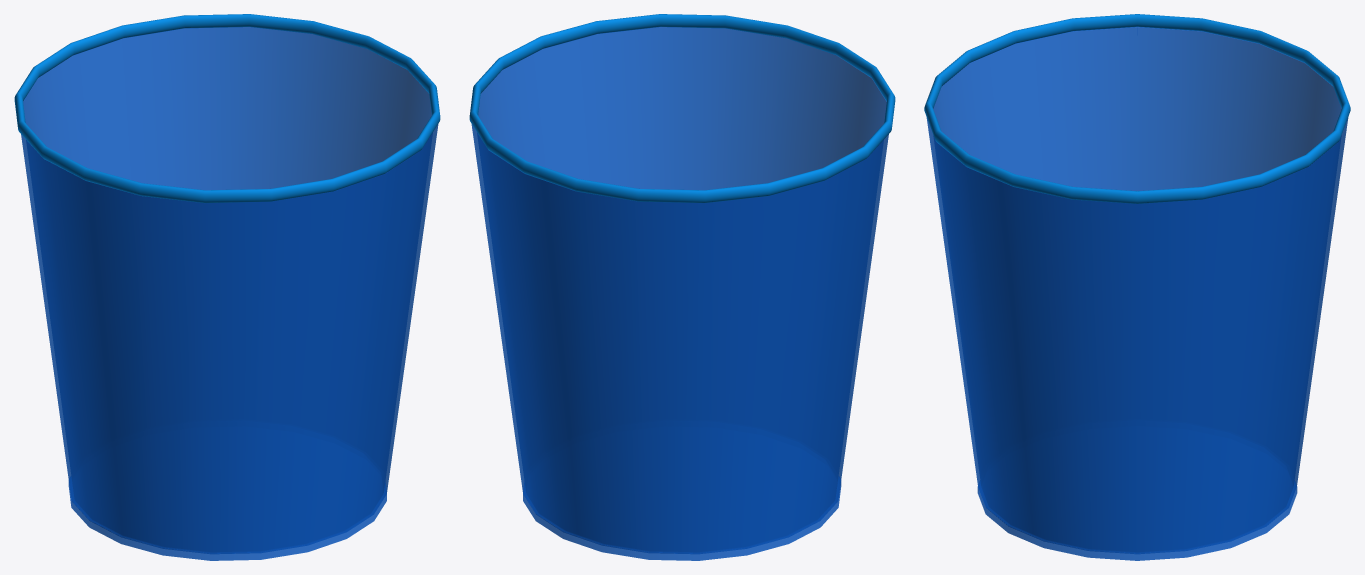
The model's file is basket azul.fbx.
3 renders of one model, left to right at view 1: azimuth 30°, elevation 25°; view 2: azimuth 150°, elevation 25°; view 3: azimuth 270°, elevation 25°, orthographic.
Parts seen in each view (by area): view 1: polySurface1, pTorus1; view 2: polySurface1, pTorus1; view 3: polySurface1, pTorus1.
Boxes of the visible parts, x1=… form: polySurface1: x1=21, y1=26, x2=438, y2=560; pTorus1: x1=14, y1=14, x2=440, y2=203; polySurface1: x1=471, y1=26, x2=888, y2=560; pTorus1: x1=469, y1=14, x2=895, y2=203; polySurface1: x1=926, y1=26, x2=1348, y2=560; pTorus1: x1=924, y1=14, x2=1350, y2=203.
Size of the model in its own units: 0.5014 by 0.5051 by 0.4999.
